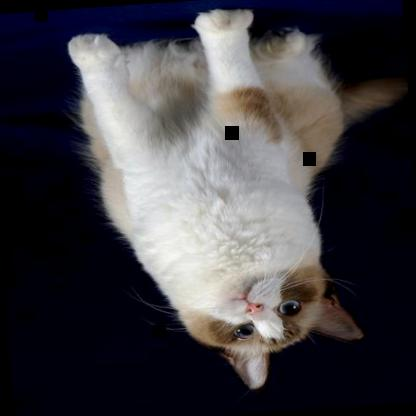cat: (65, 0, 415, 401)
